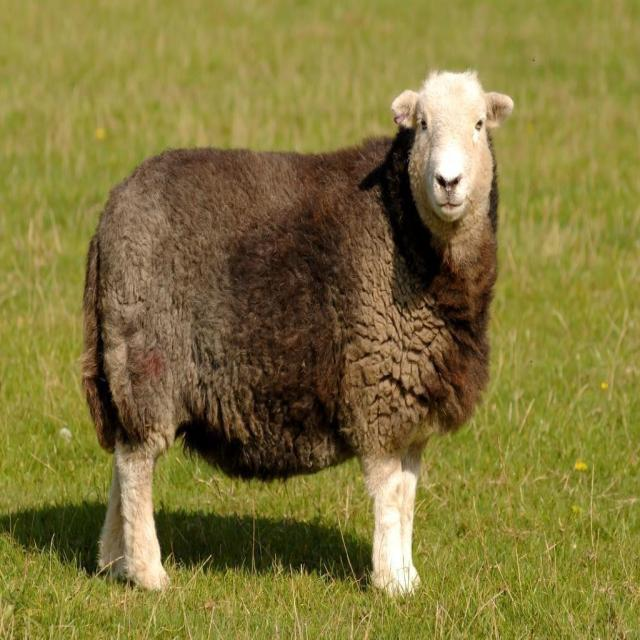Sheep: (80, 68, 514, 600)
